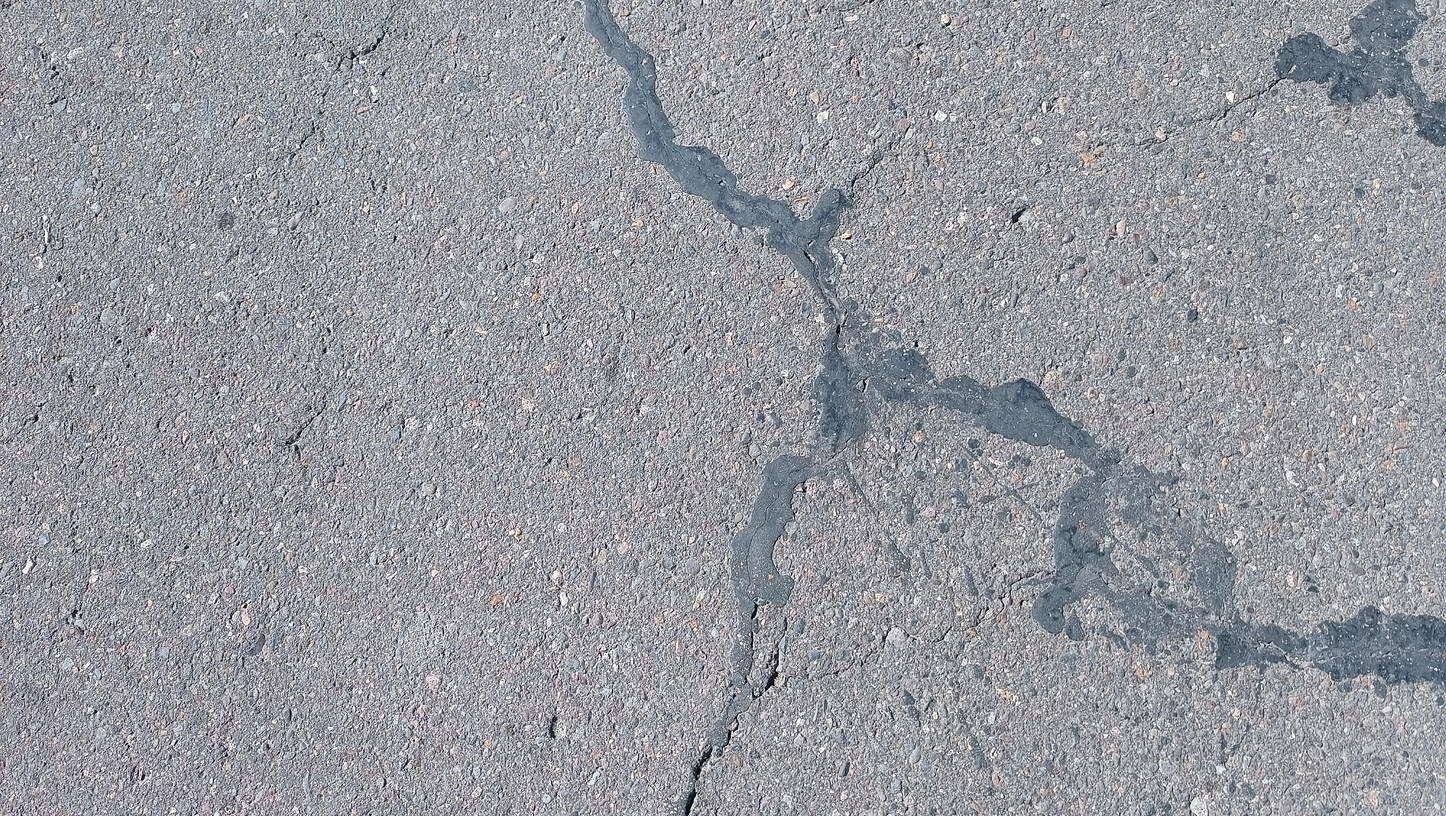GRIETA: (685, 654, 788, 816), (1138, 78, 1283, 146), (595, 11, 642, 70), (350, 21, 389, 60)
PARCHE: (1276, 0, 1446, 146)
